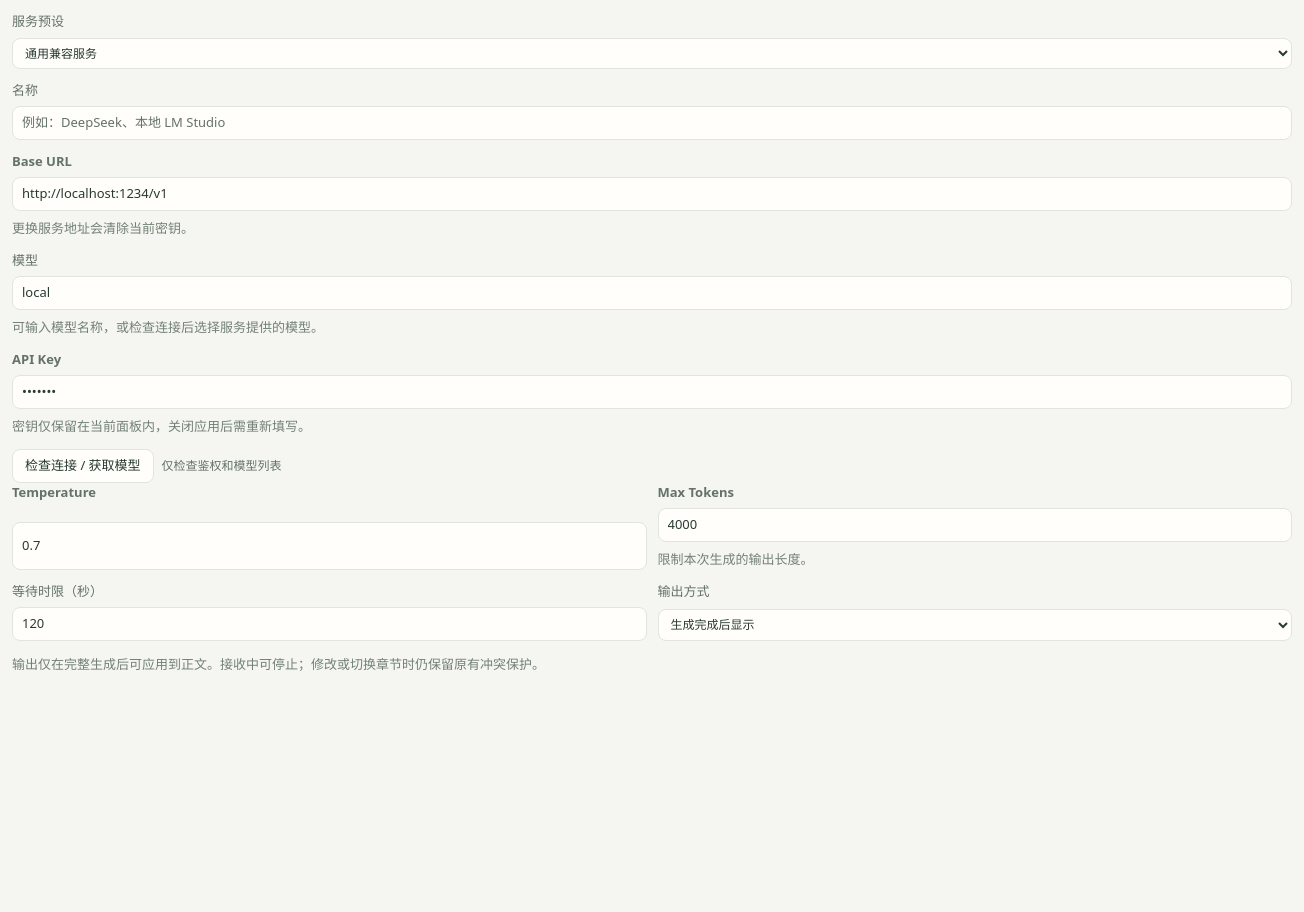
checks only models and discards replies for an edited connection
The image size is (1304, 912).
Click the button "检查连接 / 获取模型": coordinates (83, 466) left=12, top=449, right=154, bottom=483
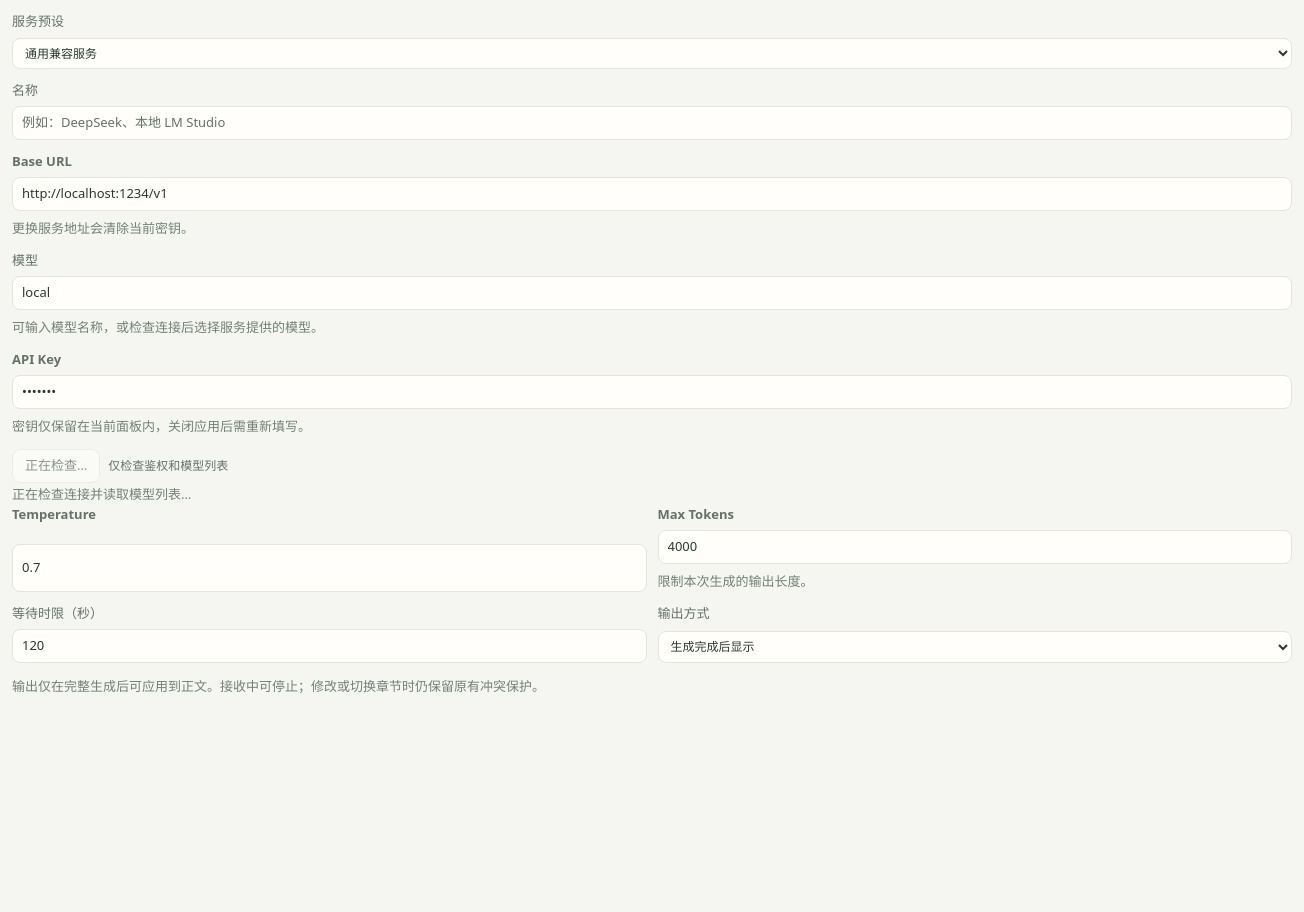
Replace the text in the field labelled "Base URL" with "http://localhost:9999/v1": coordinates (652, 194) left=12, top=177, right=1292, bottom=210
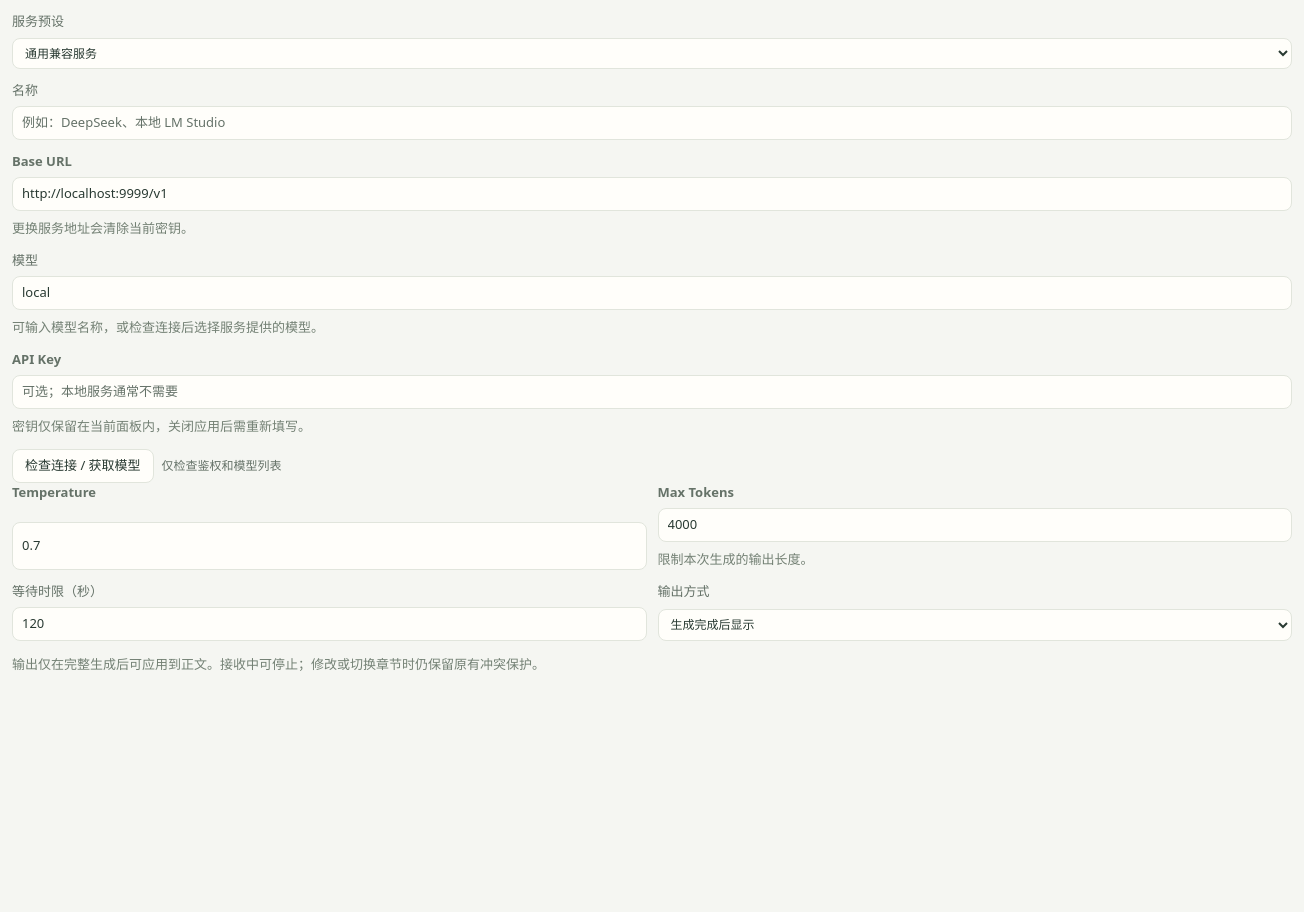
Click the button "检查连接 / 获取模型": coordinates (83, 466) left=12, top=449, right=154, bottom=483
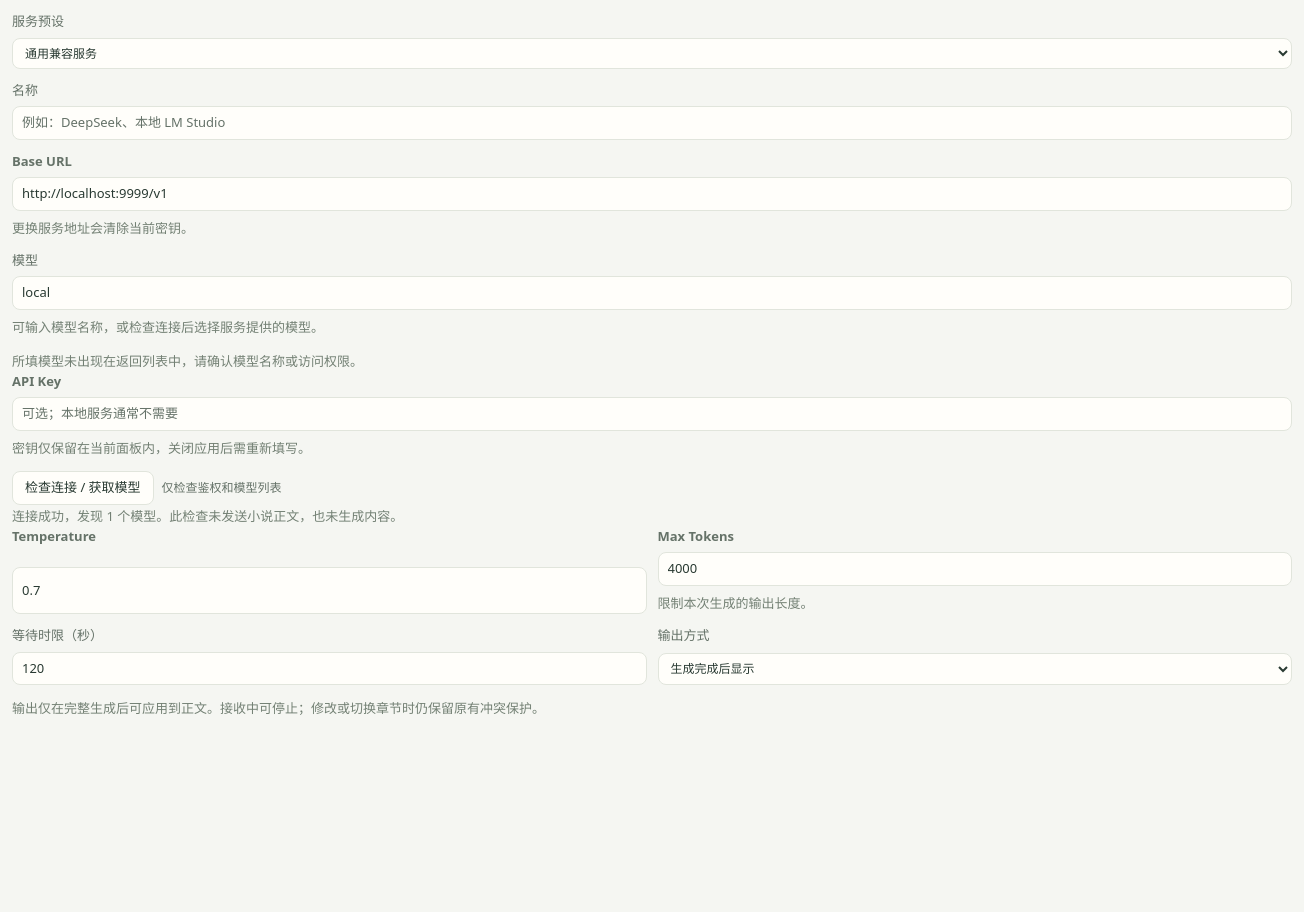
expect the text "连接成功，发现 1 个模型。此检查未发送小说正文，也未生成内容。" is shown: met, box left=12, top=507, right=403, bottom=525
